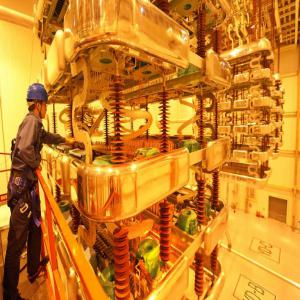blue: (26, 83, 49, 121)
